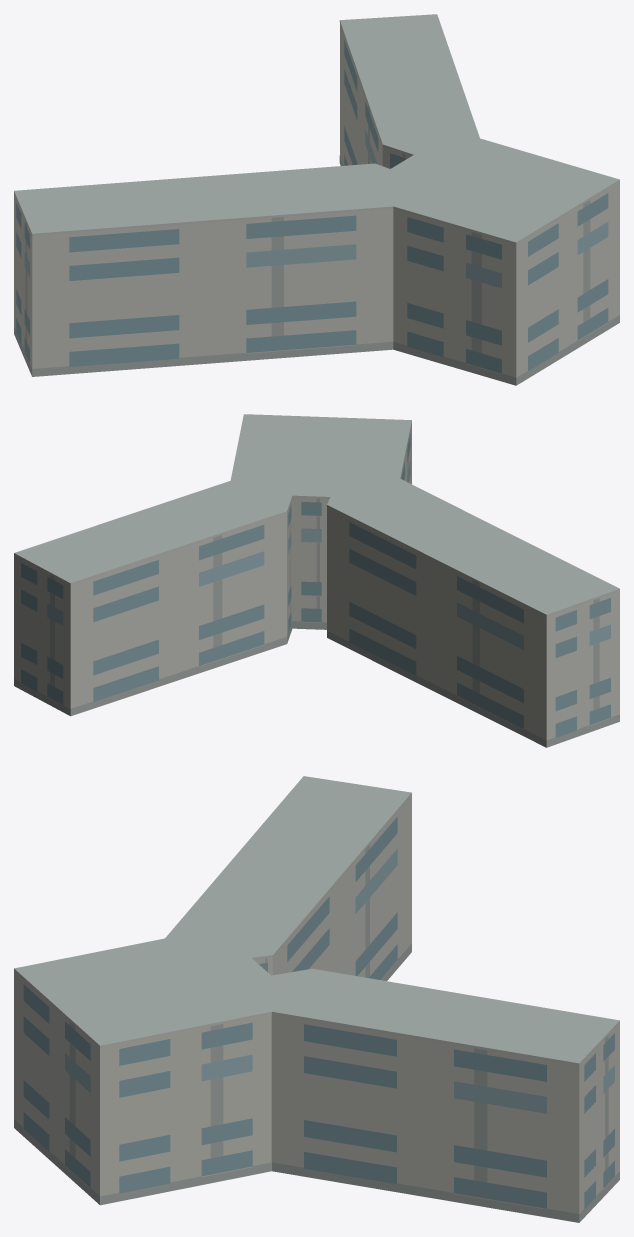
File: residential-dbaa0c21-e63c-442a-823b-9d75df9a9055.glb
3 renders of one model, top to bottom at view 1: azimuth 30°, elevation 25°; view 2: azimuth 150°, elevation 25°; view 3: azimuth 270°, elevation 25°, orthographic. The views are drawn at different scales.
Parts seen in each view (by area): view 1: residential-dbaa0c21-e63c-442a-823b-9d75df9a9055.tmp; view 2: residential-dbaa0c21-e63c-442a-823b-9d75df9a9055.tmp; view 3: residential-dbaa0c21-e63c-442a-823b-9d75df9a9055.tmp.
Boxes of the visible parts, left/top/right/bottom form: residential-dbaa0c21-e63c-442a-823b-9d75df9a9055.tmp: left=14, top=14, right=619, bottom=385; residential-dbaa0c21-e63c-442a-823b-9d75df9a9055.tmp: left=14, top=414, right=619, bottom=747; residential-dbaa0c21-e63c-442a-823b-9d75df9a9055.tmp: left=14, top=776, right=619, bottom=1222.
Bounding box in the file's own units: 58.92 × 15.25 × 52.5.
